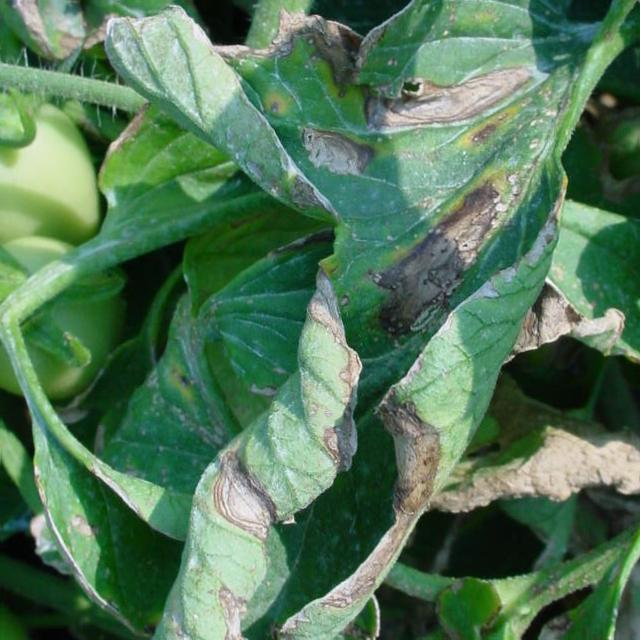Tomato leaf bacterial spot: (75, 0, 640, 640)
